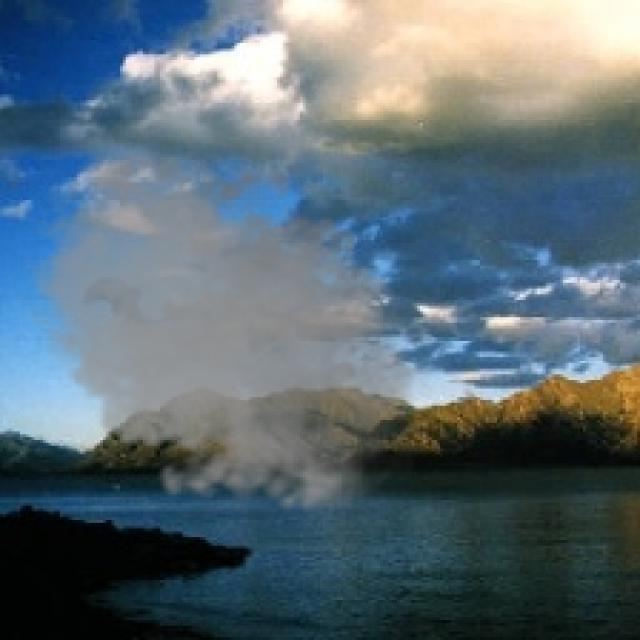Smoke: (20, 143, 446, 523)
